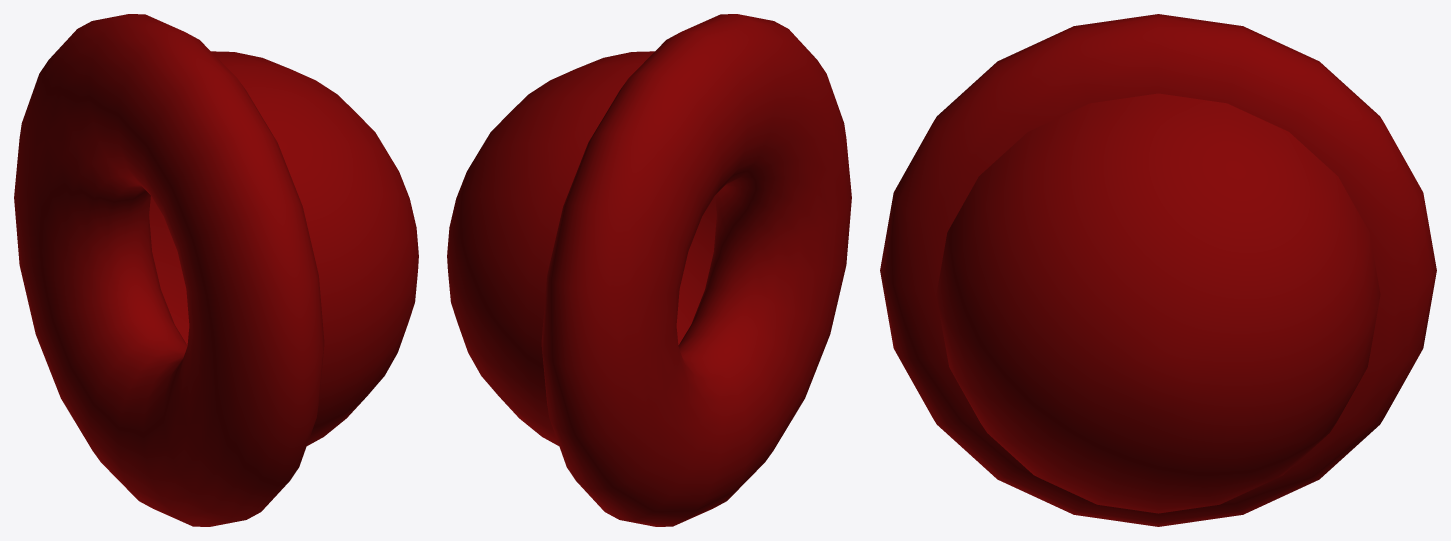
The model's file is grapplinghookgrapple.fbx.
3 views of the same model, side by side, from view 1: azimuth 30°, elevation 25°; view 2: azimuth 150°, elevation 25°; view 3: azimuth 270°, elevation 25° (orthographic). The views are drawn at different scales.
Visible parts, largest first — view 1: pTorus2; view 2: pTorus2; view 3: pTorus2.
Boxes of the visible parts, bbox=[...] form: pTorus2: bbox=[14, 14, 418, 526]; pTorus2: bbox=[447, 14, 851, 526]; pTorus2: bbox=[880, 14, 1436, 526].
Bounding box in the file's own units: 0.225 × 0.375 × 0.375.
